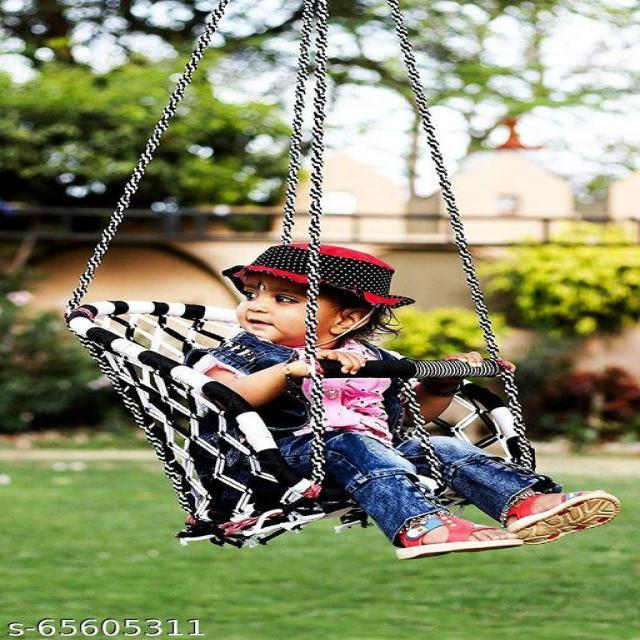child: (204, 238, 622, 566)
